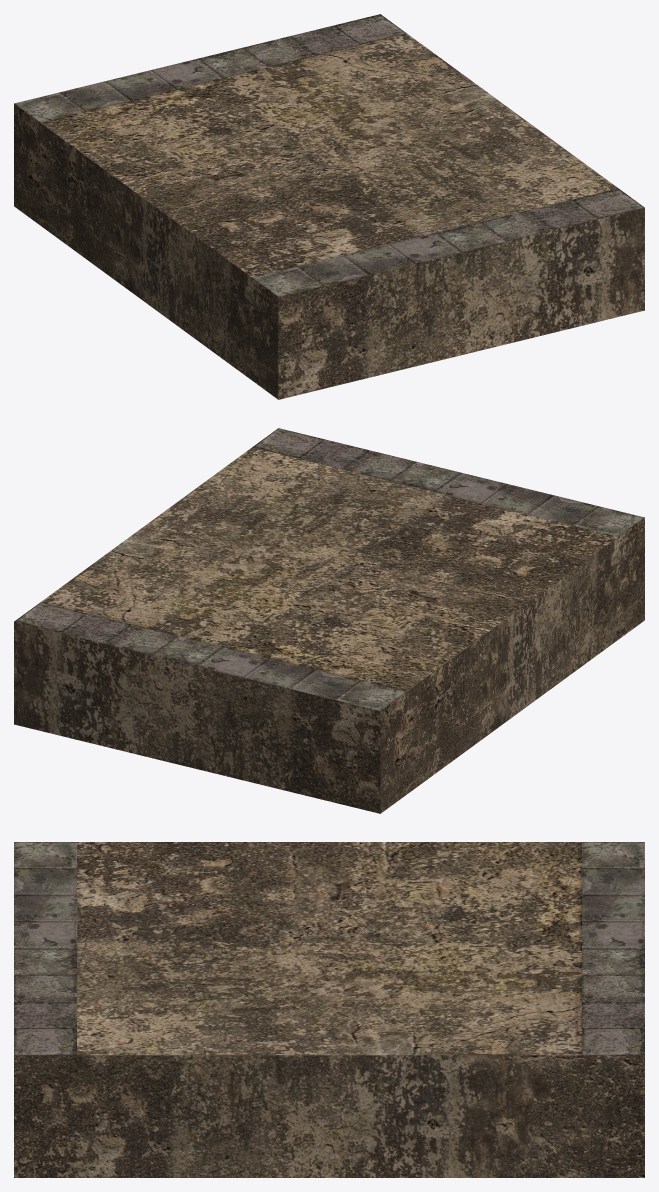
File: materials_5_floor_rectangle_9.fbx
The picture shows the model from 3 angles, top to bottom: view 1: azimuth 30°, elevation 25°; view 2: azimuth 150°, elevation 25°; view 3: azimuth 270°, elevation 25°; orthographic projection. The views are drawn at different scales.
Parts seen in each view (by area): view 1: materials_5_floor_rectangle_9; view 2: materials_5_floor_rectangle_9; view 3: materials_5_floor_rectangle_9.
Boxes of the visible parts, x1,y1,x2,y2 form: materials_5_floor_rectangle_9: (14, 14, 644, 399); materials_5_floor_rectangle_9: (14, 428, 644, 813); materials_5_floor_rectangle_9: (14, 842, 644, 1177).
Bounding box in the file's own units: 160 × 42.89 × 200.
